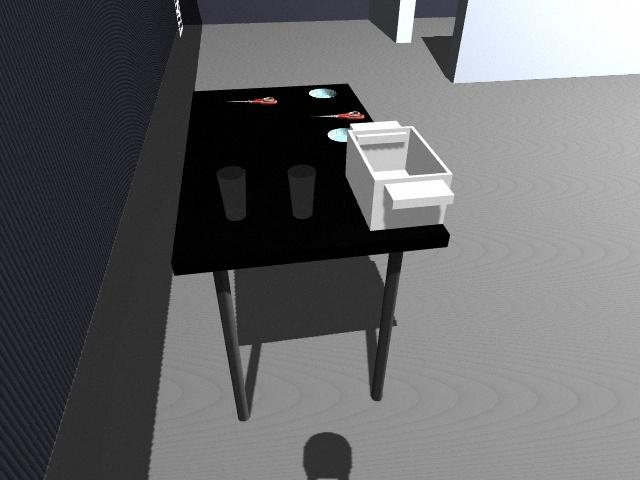cup: (216, 166, 247, 221), (287, 165, 316, 218)
plate: (309, 88, 339, 99), (327, 128, 349, 142)
scissors: (312, 111, 366, 120), (226, 97, 276, 105)
